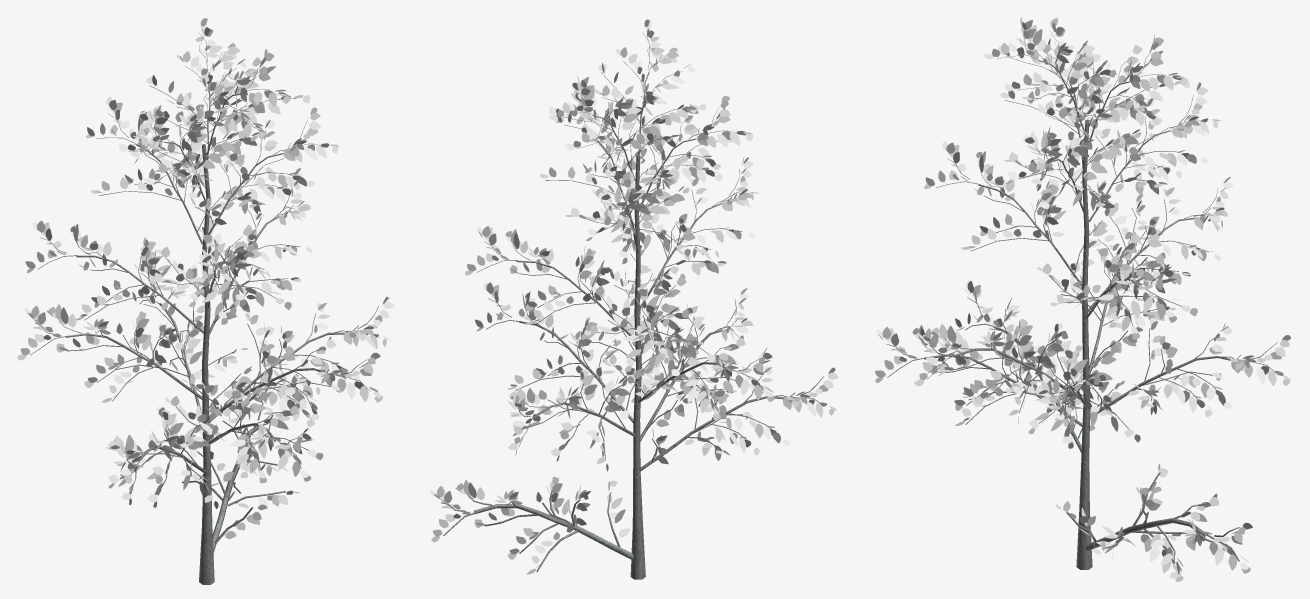
File: arbol 01.glb
3 renders of one model, left to right at view 1: azimuth 30°, elevation 25°; view 2: azimuth 150°, elevation 25°; view 3: azimuth 270°, elevation 25°, orthographic. The views are drawn at different scales.
Visible parts, largest first — view 1: Leafs, Tree; view 2: Leafs, Tree; view 3: Leafs, Tree.
Boxes of the visible parts, x1,y1,x2,y2 form: Leafs: (17,18,394,539); Tree: (30,33,379,584); Leafs: (430,19,838,574); Tree: (441,33,825,579); Leafs: (875,17,1290,581); Tree: (886,34,1278,569).
Size of the model in its own units: 4.05 by 6.16 by 4.23.
2 materials, 2 textured.
